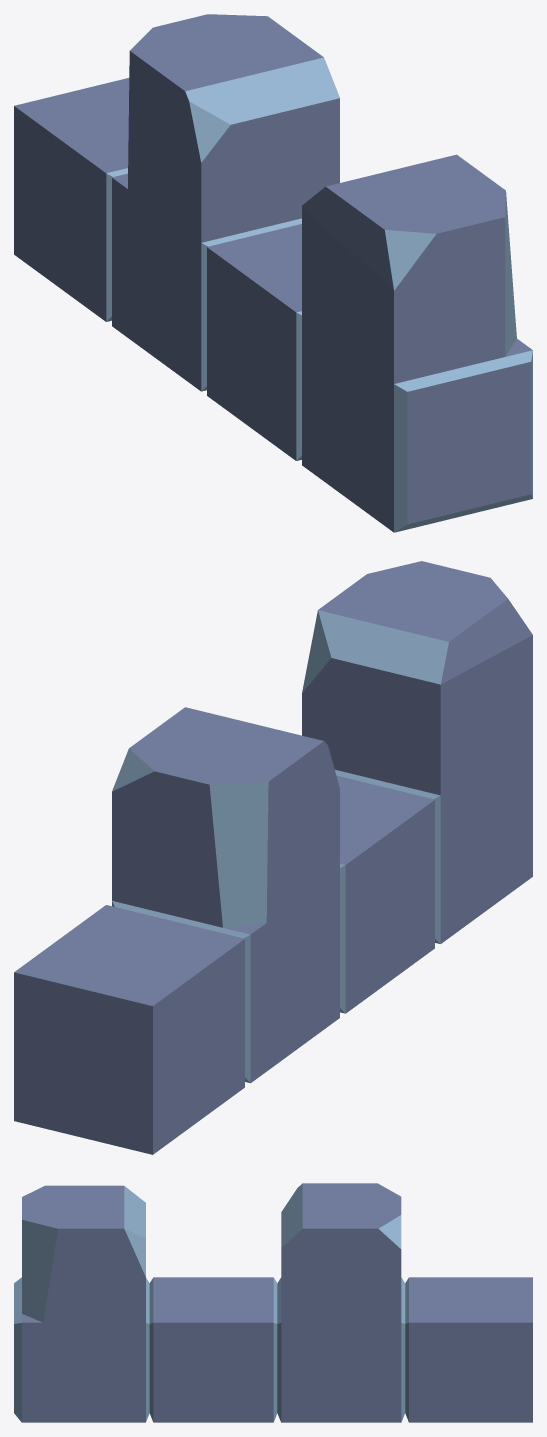
File: Wall_Base_Balustrade_04.fbx
3 views of the same model, one above another, from view 1: azimuth 30°, elevation 25°; view 2: azimuth 150°, elevation 25°; view 3: azimuth 270°, elevation 25° (orthographic). The views are drawn at different scales.
Parts seen in each view (by area): view 1: Wall_Base_Balustrade_04; view 2: Wall_Base_Balustrade_04; view 3: Wall_Base_Balustrade_04.
Boxes of the visible parts, bbox=[...] form: Wall_Base_Balustrade_04: bbox=[14, 14, 532, 532]; Wall_Base_Balustrade_04: bbox=[14, 561, 532, 1154]; Wall_Base_Balustrade_04: bbox=[14, 1183, 532, 1422].
Bounding box in the file's own units: 75 × 149 × 361.
